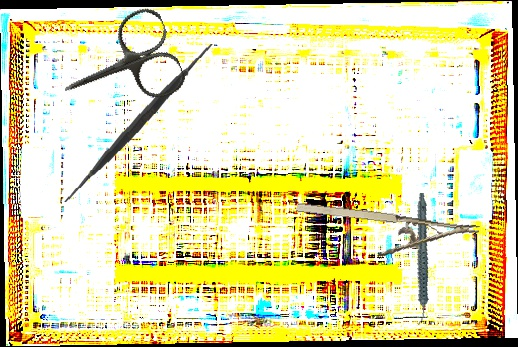Handpiece: (389, 192, 452, 326)
Iris Scissors: (47, 3, 190, 131)
Needle Holder: (291, 197, 480, 271)
Spatula Surgical: (52, 35, 224, 211)
